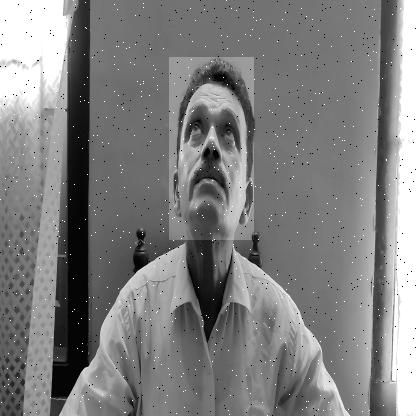Distracted: (169, 57, 254, 240)
